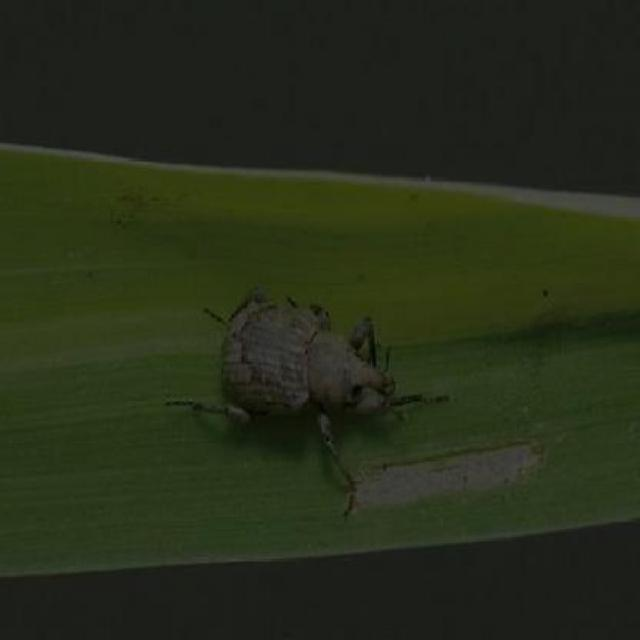rice-bug: (182, 284, 398, 448)
